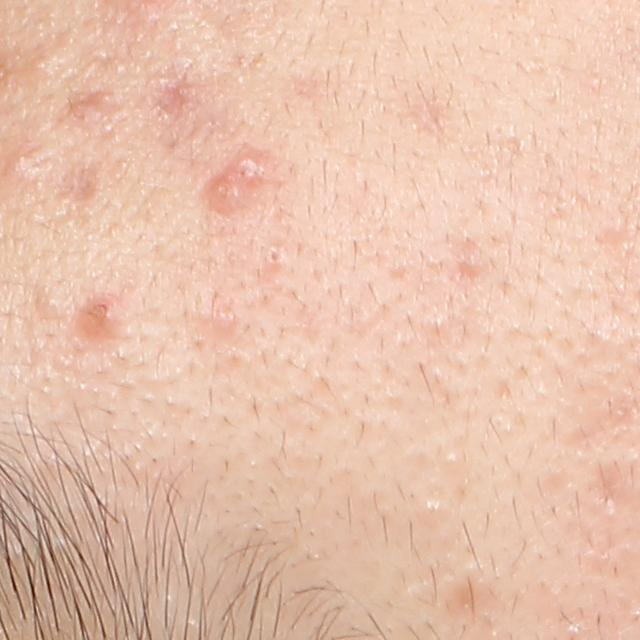comedo: (32, 287, 73, 321), (436, 447, 467, 477), (420, 494, 449, 518), (262, 244, 286, 269)
papule: (203, 171, 251, 223), (79, 293, 122, 336)
